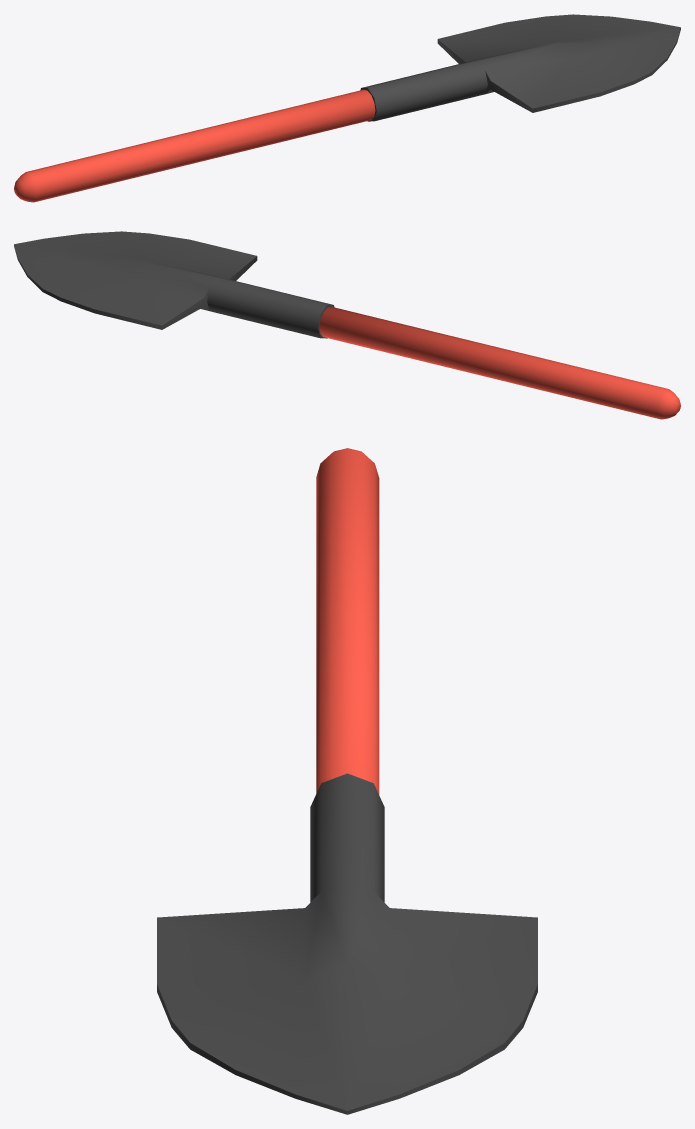
File: Shovel.fbx
The picture shows the model from 3 angles, top to bottom: view 1: azimuth 30°, elevation 25°; view 2: azimuth 150°, elevation 25°; view 3: azimuth 270°, elevation 25°; orthographic projection. The views are drawn at different scales.
Visible parts, largest first — view 1: Shovel; view 2: Shovel; view 3: Shovel.
Boxes of the visible parts, x1,y1,x2,y2 form: Shovel: (14,14,680,202); Shovel: (14,231,680,419); Shovel: (157,448,537,1114).
Size of the model in its own units: 2.52 by 0.1219 by 0.6251.
